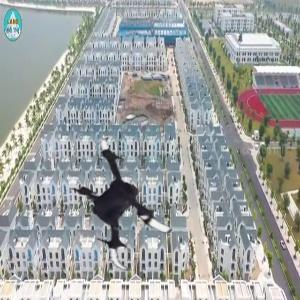drone: (59, 136, 199, 276)
